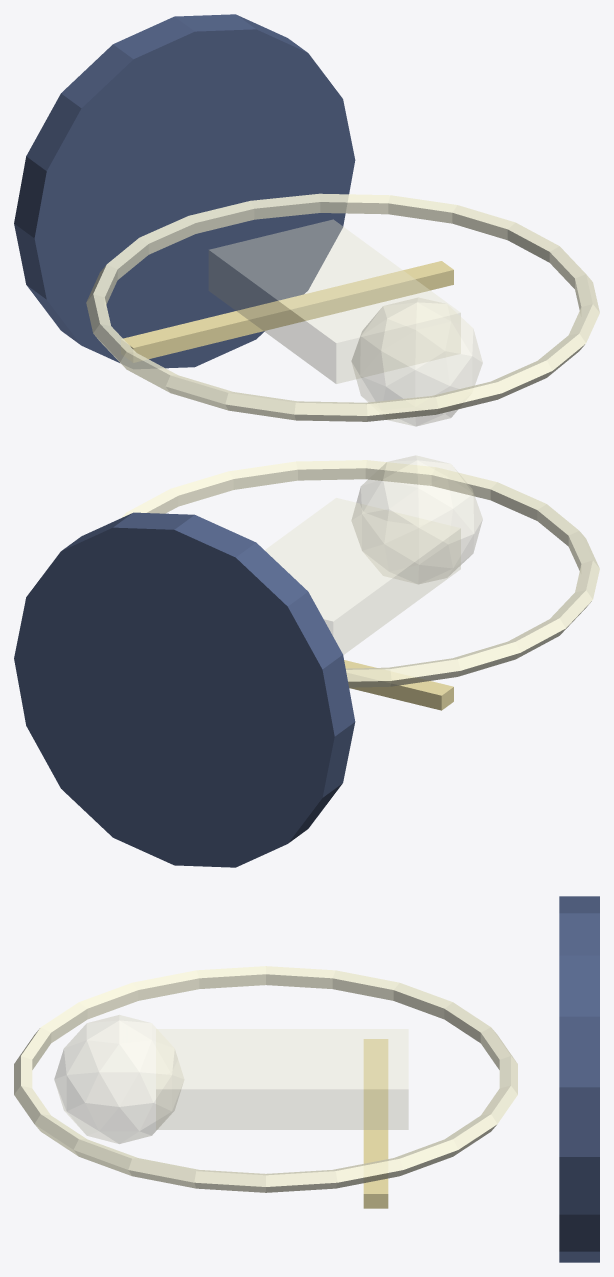
The model's file is 07_support_npc_aura.glb.
3 views of the same model, one above another, from view 1: azimuth 30°, elevation 25°; view 2: azimuth 150°, elevation 25°; view 3: azimuth 270°, elevation 25° (orthographic).
Parts seen in each view (by area): view 1: npc_support_base, support_holo_body, ally_command_ring, support_holo_head, assist_beam_marker; view 2: npc_support_base, support_holo_body, ally_command_ring, support_holo_head, assist_beam_marker; view 3: support_holo_body, ally_command_ring, npc_support_base, support_holo_head, assist_beam_marker.
Boxes of the visible parts, <box> form: npc_support_base: <box>14,14,355,368</box>; support_holo_body: <box>209,219,460,383</box>; ally_command_ring: <box>86,193,599,421</box>; support_holo_head: <box>351,297,482,426</box>; assist_beam_marker: <box>121,261,453,362</box>; npc_support_base: <box>14,512,355,867</box>; support_holo_body: <box>265,498,460,654</box>; ally_command_ring: <box>121,460,599,687</box>; support_holo_head: <box>352,455,482,583</box>; assist_beam_marker: <box>344,660,453,710</box>; support_holo_body: <box>156,1029,408,1129</box>; ally_command_ring: <box>14,966,517,1192</box>; npc_support_base: <box>559,896,599,1262</box>; support_holo_head: <box>54,1015,183,1143</box>; assist_beam_marker: <box>363,1039,388,1208</box>.
Size of the model in its own units: 1.25 by 0.9 by 1.44.
